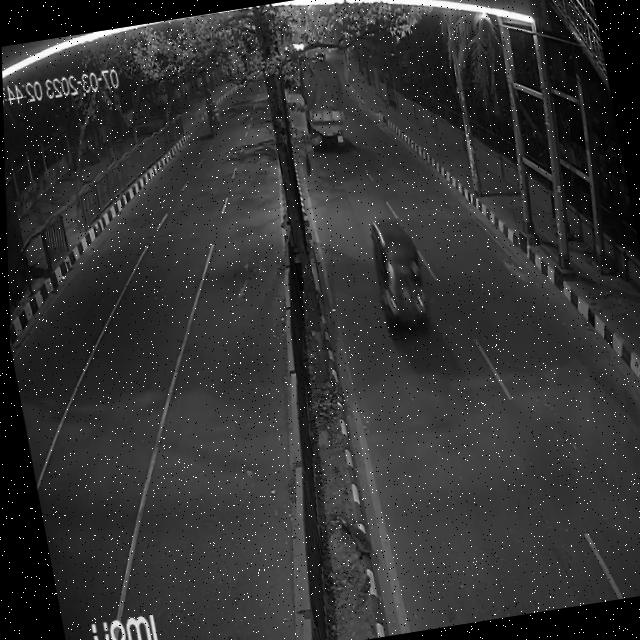cng: (361, 208, 432, 332)
